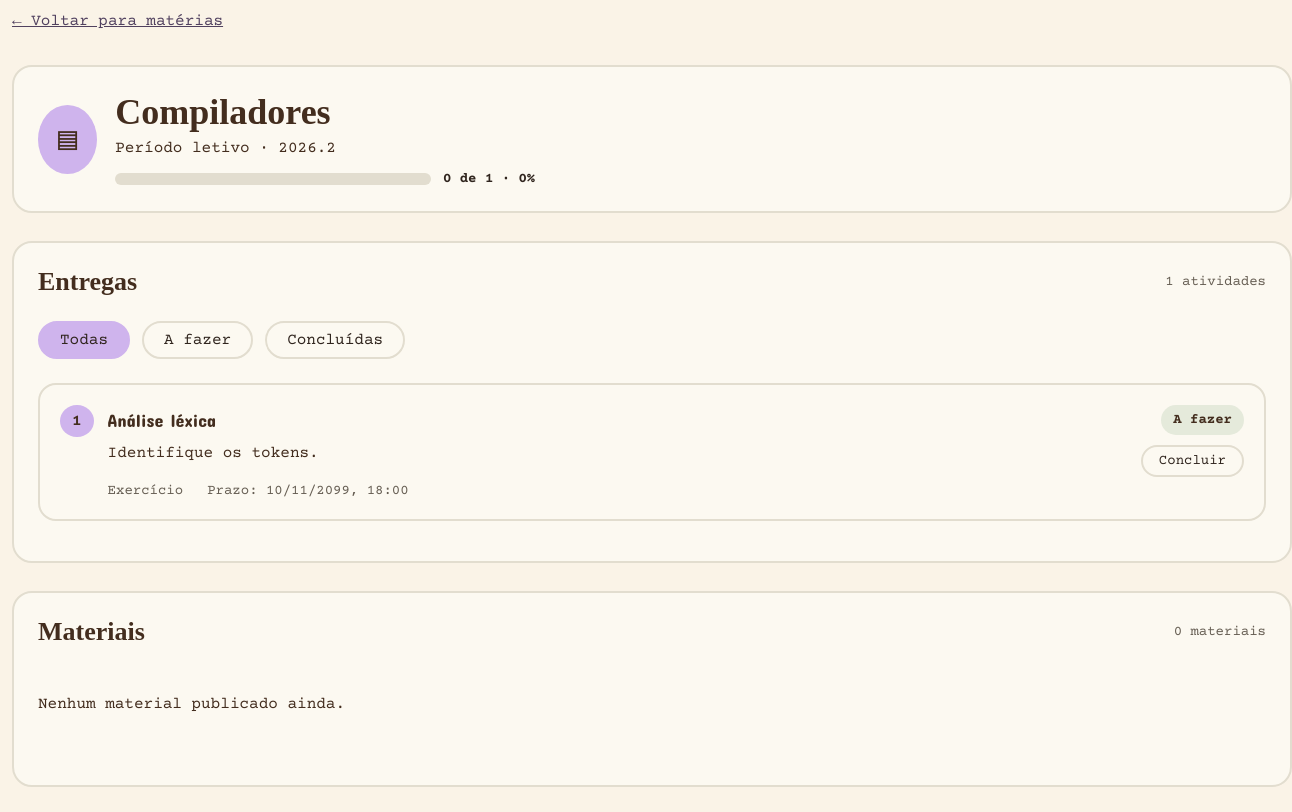
Test: Concluir e desfazer uma entrega › conclui na hora, chama o PATCH e atualiza a barra
What coordinates should you click on to do the following:
click the button with aria-label "Concluir Análise léxica"
I would click on:
 (1192, 461)
Its box is top-left (1141, 445), bottom-right (1244, 477).
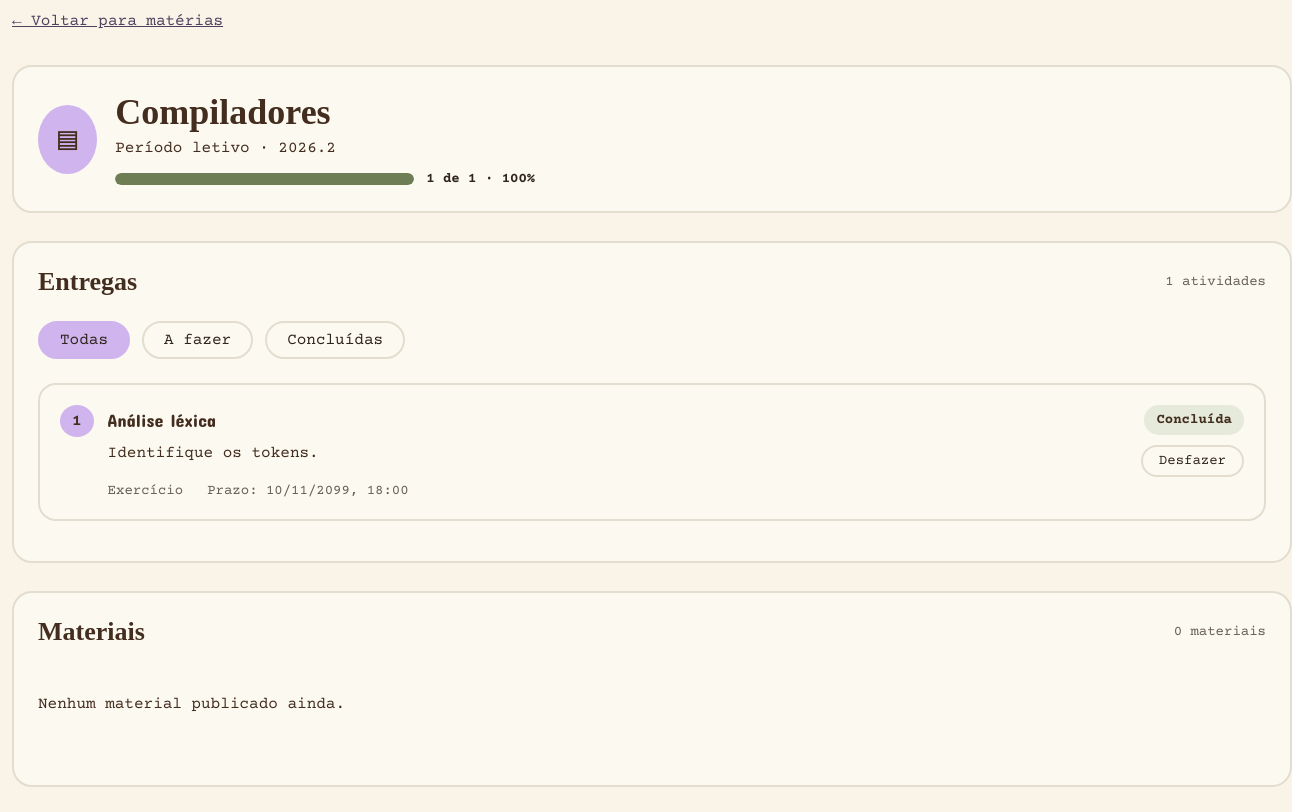
Expected: the text "Concluída" is shown, top-left (1144, 405), bottom-right (1244, 435)
